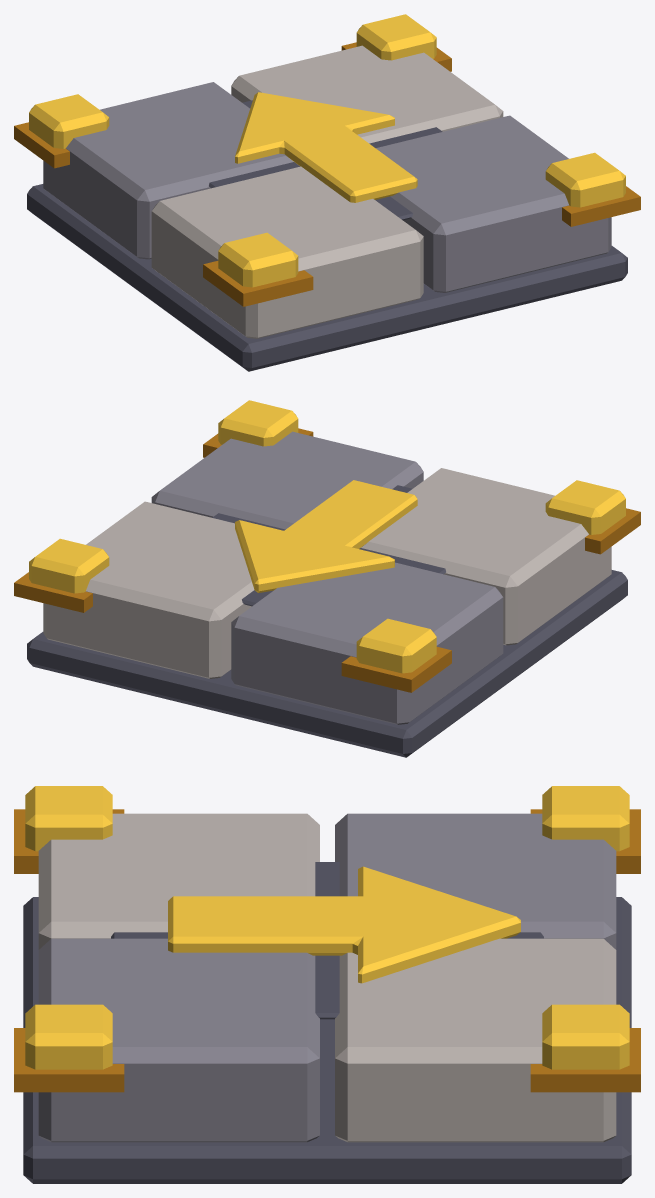
File: UpgradePad.fbx
The picture shows the model from 3 angles, top to bottom: view 1: azimuth 30°, elevation 25°; view 2: azimuth 150°, elevation 25°; view 3: azimuth 270°, elevation 25°; orthographic projection. The views are drawn at different scales.
Parts seen in each view (by area): view 1: Pad_StoneBlock_00, Pad_StoneBlock_10, Pad_StoneBlock_01, Pad_Foundation, Pad_StoneBlock_11, Upgrade_GoldArrow, Pad_GoldCorner_LF, Pad_GoldCorner_RF, Pad_GoldCorner_LB, Pad_GoldCorner_RB, Pad_CornerBase_LF, Pad_ArrowShadow (+2 smaller); view 2: Pad_StoneBlock_01, Pad_StoneBlock_11, Pad_StoneBlock_00, Pad_Foundation, Pad_StoneBlock_10, Upgrade_GoldArrow, Pad_GoldCorner_LB, Pad_GoldCorner_RB, Pad_GoldCorner_LF, Pad_GoldCorner_RF, Pad_CornerBase_LB, Pad_CornerBase_RB (+2 smaller); view 3: Pad_StoneBlock_10, Pad_StoneBlock_11, Pad_Foundation, Pad_StoneBlock_00, Pad_StoneBlock_01, Upgrade_GoldArrow, Pad_GoldCorner_RB, Pad_GoldCorner_RF, Pad_GoldCorner_LB, Pad_GoldCorner_LF, Pad_CornerBase_RB, Pad_CornerBase_RF (+3 smaller).
Part boxes in pixels (left/top/right/bottom): Pad_StoneBlock_00: left=151, top=166, right=423, bottom=338; Pad_StoneBlock_10: left=376, top=115, right=611, bottom=292; Pad_StoneBlock_01: left=43, top=82, right=293, bottom=259; Pad_Foundation: left=27, top=184, right=627, bottom=371; Pad_StoneBlock_11: left=231, top=45, right=503, bottom=143; Upgrade_GoldArrow: left=235, top=92, right=417, bottom=202; Pad_GoldCorner_LF: left=218, top=232, right=298, bottom=287; Pad_GoldCorner_RF: left=545, top=152, right=625, bottom=207; Pad_GoldCorner_LB: left=29, top=94, right=109, bottom=148; Pad_GoldCorner_RB: left=356, top=14, right=436, bottom=60; Pad_CornerBase_LF: left=203, top=261, right=313, bottom=306; Pad_ArrowShadow: left=209, top=100, right=442, bottom=220; Pad_StoneBlock_01: left=231, top=562, right=503, bottom=724; Pad_StoneBlock_11: left=43, top=501, right=254, bottom=678; Pad_StoneBlock_00: left=361, top=468, right=611, bottom=645; Pad_Foundation: left=27, top=570, right=627, bottom=757; Pad_StoneBlock_10: left=151, top=431, right=423, bottom=529; Upgrade_GoldArrow: left=235, top=480, right=417, bottom=592; Pad_GoldCorner_LB: left=356, top=618, right=436, bottom=673; Pad_GoldCorner_RB: left=29, top=538, right=109, bottom=593; Pad_GoldCorner_LF: left=545, top=480, right=625, bottom=534; Pad_GoldCorner_RF: left=218, top=400, right=298, bottom=446; Pad_CornerBase_LB: left=341, top=647, right=451, bottom=692; Pad_CornerBase_RB: left=14, top=572, right=92, bottom=612; Pad_StoneBlock_10: left=38, top=938, right=319, bottom=1142; Pad_StoneBlock_11: left=335, top=938, right=616, bottom=1142; Pad_Foundation: left=23, top=897, right=631, bottom=1183; Pad_StoneBlock_00: left=38, top=813, right=319, bottom=949; Pad_StoneBlock_01: left=335, top=813, right=616, bottom=949; Upgrade_GoldArrow: left=168, top=866, right=520, bottom=983; Pad_GoldCorner_RB: left=542, top=1004, right=629, bottom=1069; Pad_GoldCorner_RF: left=25, top=1004, right=112, bottom=1069; Pad_GoldCorner_LB: left=542, top=786, right=629, bottom=851; Pad_GoldCorner_LF: left=25, top=786, right=112, bottom=851; Pad_CornerBase_RB: left=530, top=1028, right=640, bottom=1092; Pad_CornerBase_RF: left=14, top=1028, right=124, bottom=1092.
Size of the model in its own units: 1.65 by 0.435 by 1.65.
